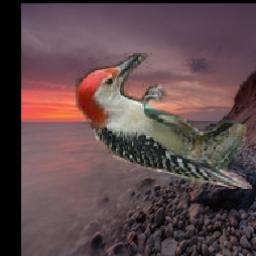Woodpecker: (77, 53, 253, 189)
